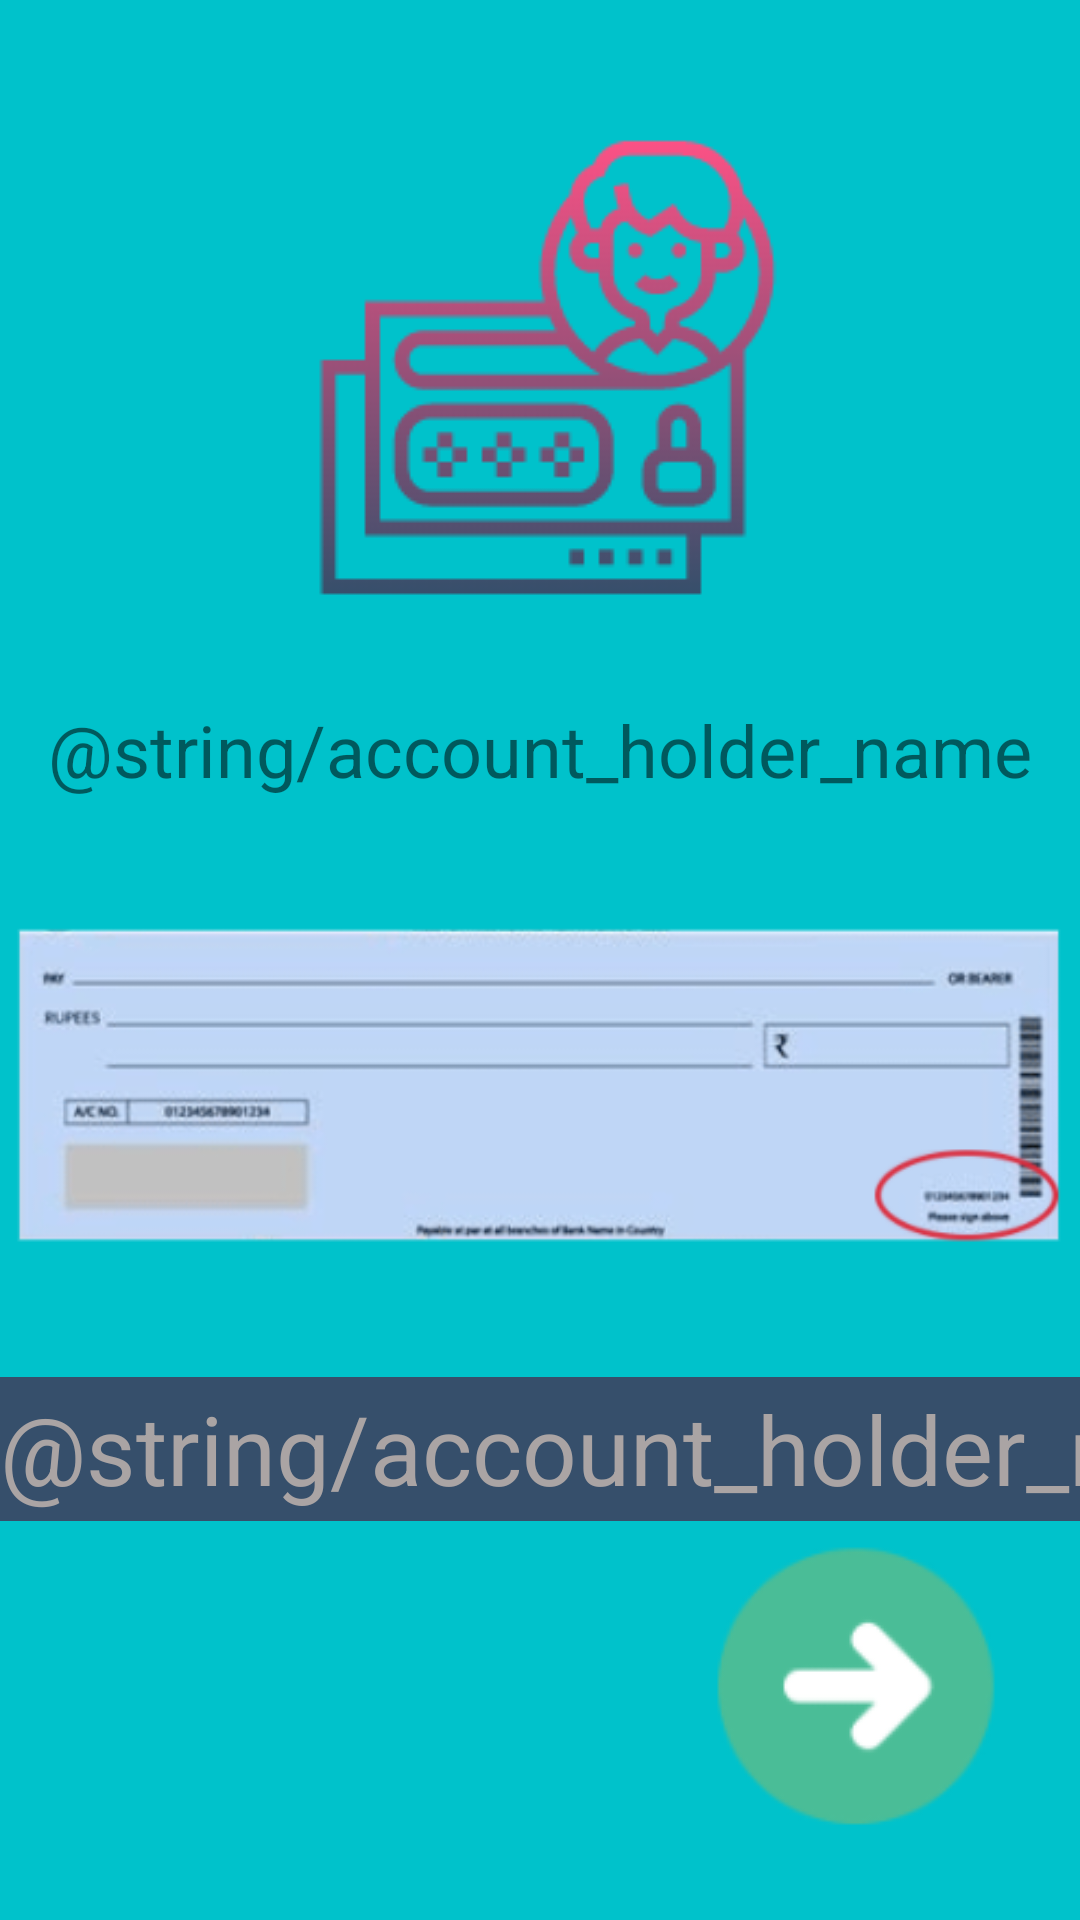

Point at icon controls on the screen. Image size 1080*1920, points as (x,y).
nextt: (856,1686)
